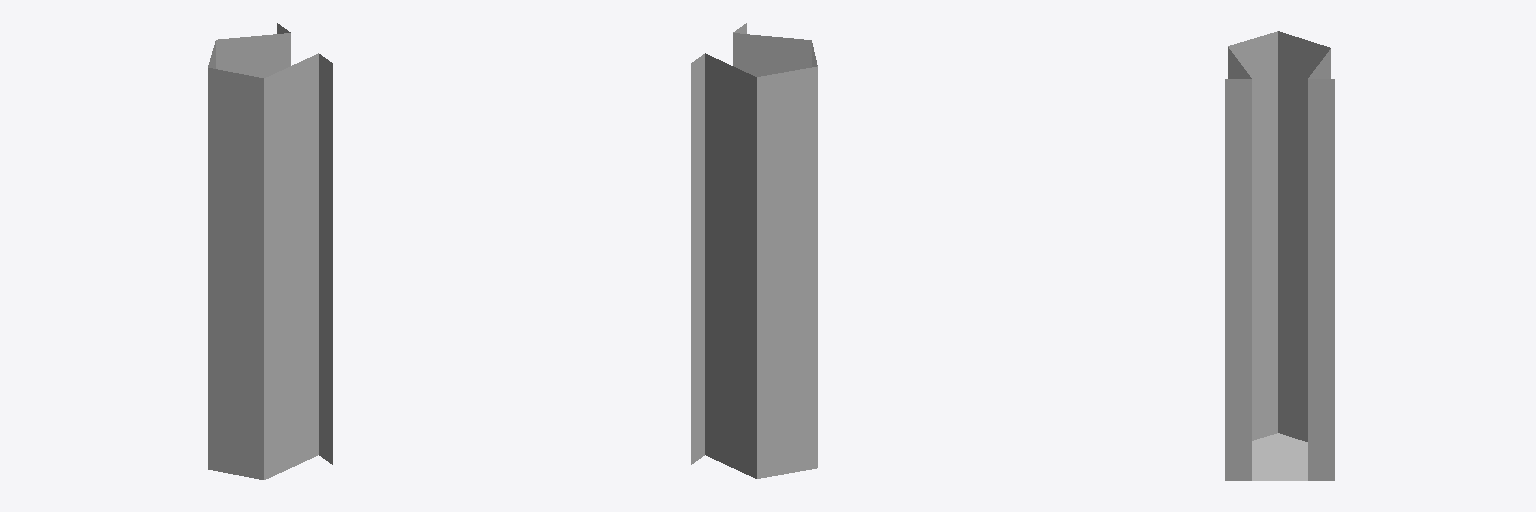
The model's file is elevator_shaft-02-collision_mesh-car.obj.
The picture shows the model from 3 angles: view 1: azimuth 30°, elevation 25°; view 2: azimuth 150°, elevation 25°; view 3: azimuth 270°, elevation 25°; orthographic projection.
Visible parts, largest first — view 1: Circle.010_Circle.006; view 2: Circle.010_Circle.006; view 3: Circle.010_Circle.006.
Boxes of the visible parts, x1,y1,x2,y2 form: Circle.010_Circle.006: [208, 23, 332, 479]; Circle.010_Circle.006: [691, 23, 817, 478]; Circle.010_Circle.006: [1225, 31, 1334, 480].
Size of the model in its own units: 4.08 by 16 by 4.